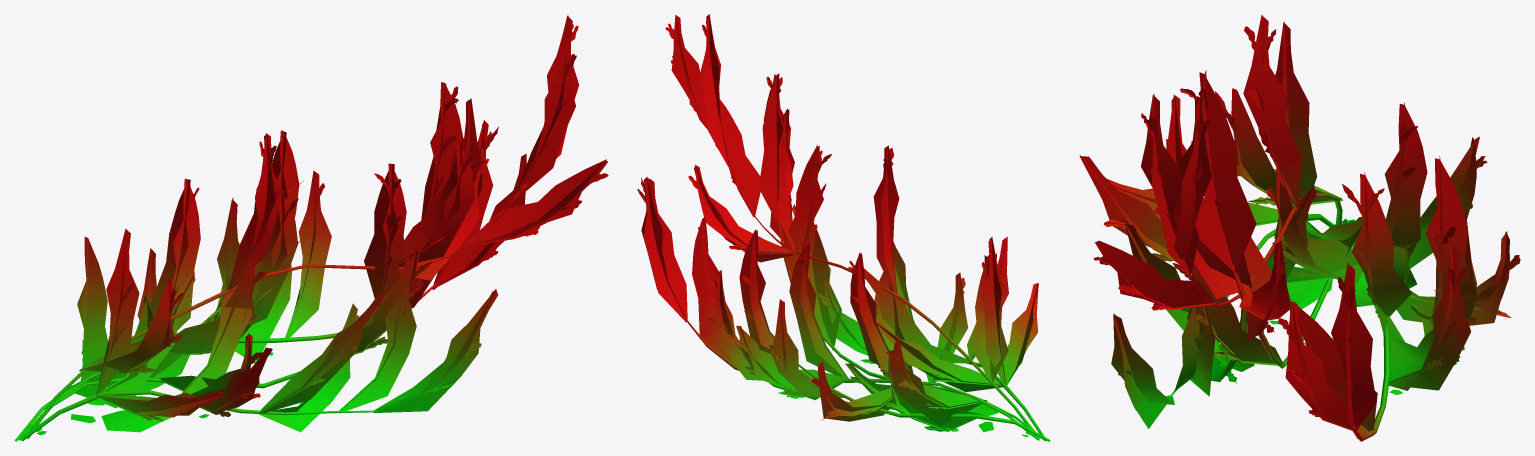
File: River Saltbush_LOD0_Var6_vdfpcgbia.fbx
3 renders of one model, left to right at view 1: azimuth 30°, elevation 25°; view 2: azimuth 150°, elevation 25°; view 3: azimuth 270°, elevation 25°, orthographic. The views are drawn at different scales.
Parts seen in each view (by area): view 1: _ckgj_Var6_LOD0; view 2: _ckgj_Var6_LOD0; view 3: _ckgj_Var6_LOD0.
Part boxes in pixels (x1,y1,x2,y2): _ckgj_Var6_LOD0: [14, 15, 608, 441]; _ckgj_Var6_LOD0: [637, 14, 1050, 441]; _ckgj_Var6_LOD0: [1079, 14, 1520, 441].
Size of the model in its own units: 33.38 by 22.22 by 19.94.
